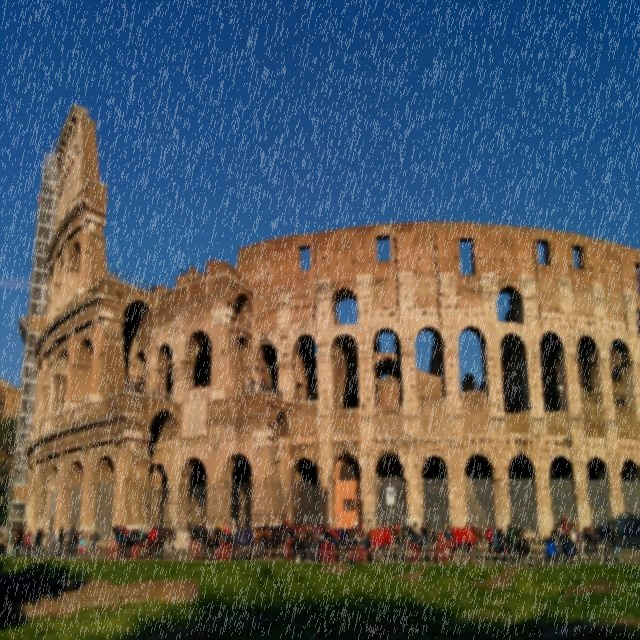pessoa: (560, 511, 580, 546), (506, 522, 519, 562), (412, 521, 431, 548), (325, 524, 343, 550), (302, 524, 314, 562), (484, 524, 495, 562), (392, 526, 405, 558), (563, 534, 576, 566), (56, 526, 68, 560), (291, 531, 304, 562), (148, 526, 160, 559), (199, 522, 214, 548), (518, 538, 531, 568), (36, 528, 48, 560), (544, 536, 556, 568), (310, 526, 320, 563), (583, 527, 594, 560), (32, 528, 44, 558), (14, 526, 25, 558), (611, 530, 622, 562), (497, 528, 507, 562), (413, 522, 426, 548), (279, 525, 293, 549), (553, 535, 563, 568), (569, 528, 579, 560), (6, 528, 16, 558), (400, 526, 410, 556), (24, 530, 34, 559), (46, 528, 56, 556), (118, 525, 130, 548), (70, 528, 80, 555), (67, 528, 76, 556), (592, 528, 600, 558), (470, 522, 478, 550), (90, 530, 100, 552), (516, 527, 526, 549), (506, 524, 512, 560), (606, 522, 614, 548), (167, 524, 174, 552), (12, 528, 20, 552), (560, 528, 566, 560), (582, 527, 588, 559), (77, 535, 86, 556), (294, 526, 305, 542), (34, 527, 40, 556), (588, 524, 594, 552), (422, 522, 430, 542), (420, 522, 426, 548), (492, 530, 498, 554), (550, 524, 558, 542), (554, 523, 562, 541), (190, 382, 204, 392), (446, 526, 450, 556), (232, 530, 236, 558), (20, 530, 25, 552), (250, 376, 256, 394), (612, 526, 620, 539), (258, 376, 264, 393), (186, 519, 192, 536), (152, 381, 158, 397), (246, 376, 251, 395), (158, 383, 164, 398), (138, 377, 143, 394), (207, 528, 214, 540), (131, 377, 136, 392), (125, 380, 130, 394), (136, 380, 141, 394), (495, 526, 500, 539), (91, 542, 97, 552), (263, 522, 271, 528), (67, 528, 72, 536), (262, 373, 266, 382), (464, 522, 470, 528), (514, 526, 520, 532), (444, 522, 448, 530), (382, 523, 387, 529), (318, 523, 323, 528), (72, 524, 76, 530), (189, 524, 192, 530), (61, 549, 64, 555), (448, 524, 451, 530), (383, 524, 386, 529), (58, 542, 59, 550)
